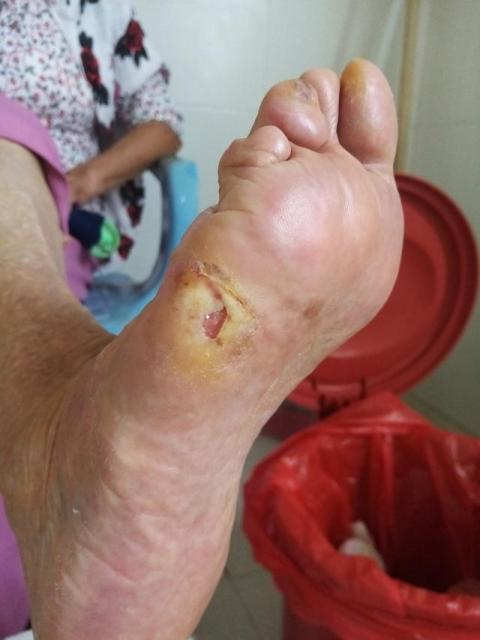wound: (190, 263, 247, 348)
